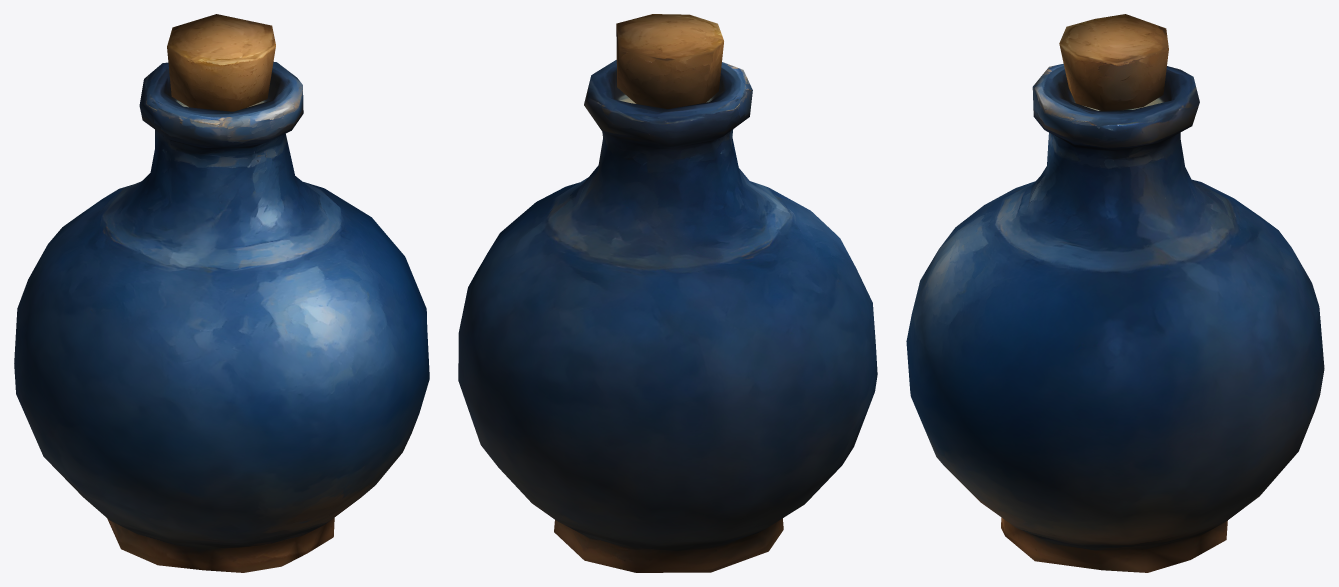
The model's file is agua-v1.glb.
The picture shows the model from 3 angles, left to right: view 1: azimuth 30°, elevation 25°; view 2: azimuth 150°, elevation 25°; view 3: azimuth 270°, elevation 25°; orthographic projection.
Visible parts, largest first — view 1: tripo_node_2e922187-b430-4e3e-95f0-1070b065f118; view 2: tripo_node_2e922187-b430-4e3e-95f0-1070b065f118; view 3: tripo_node_2e922187-b430-4e3e-95f0-1070b065f118.
Boxes of the visible parts, x1=… form: tripo_node_2e922187-b430-4e3e-95f0-1070b065f118: x1=14, y1=14, x2=429, y2=572; tripo_node_2e922187-b430-4e3e-95f0-1070b065f118: x1=458, y1=14, x2=877, y2=572; tripo_node_2e922187-b430-4e3e-95f0-1070b065f118: x1=906, y1=14, x2=1324, y2=572.
Size of the model in its own units: 0.7533 by 0.9786 by 0.7557.
Materials: 1 (1 with a texture image).
